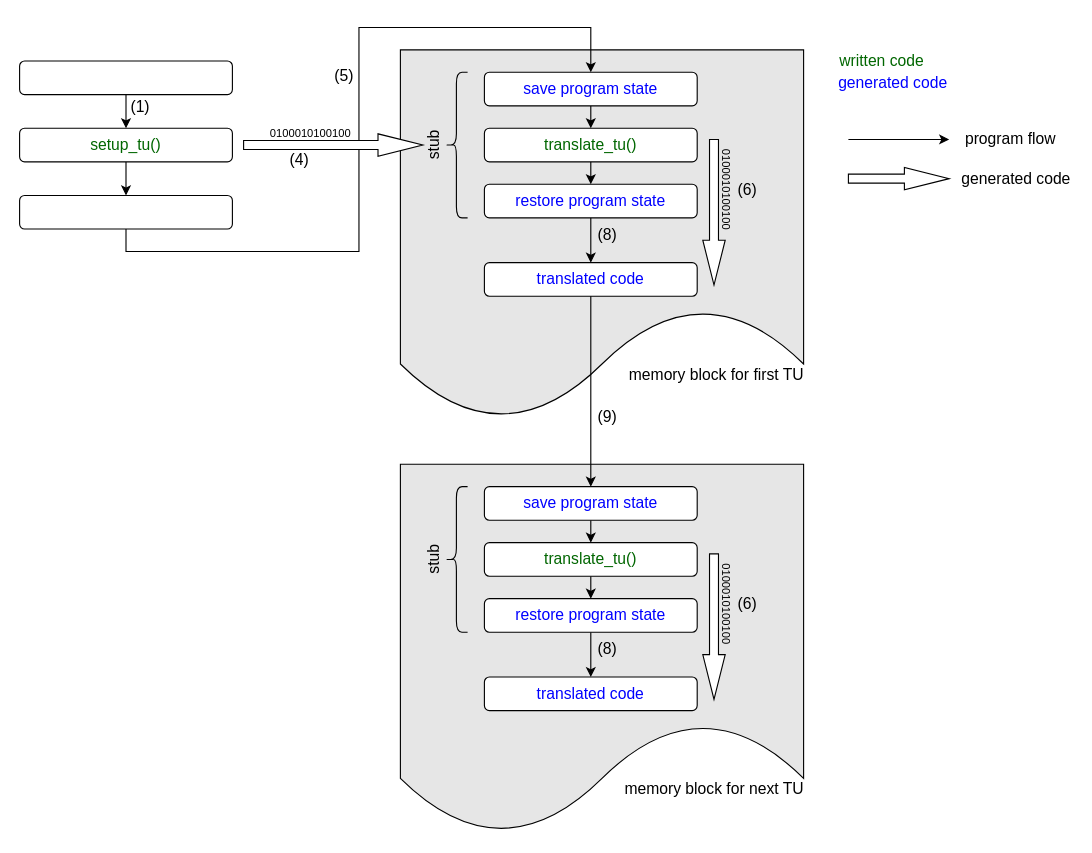
Some shapes in this 1092 by 853 pixel diagram are drawn without their labels. The shapes that lost their labels are listed below. From the top down, each one's box as (x1, y1, x2, y2) in pixels, then its label:
(18, 60, 232, 95): main()
(18, 194, 232, 229): exec_program()
